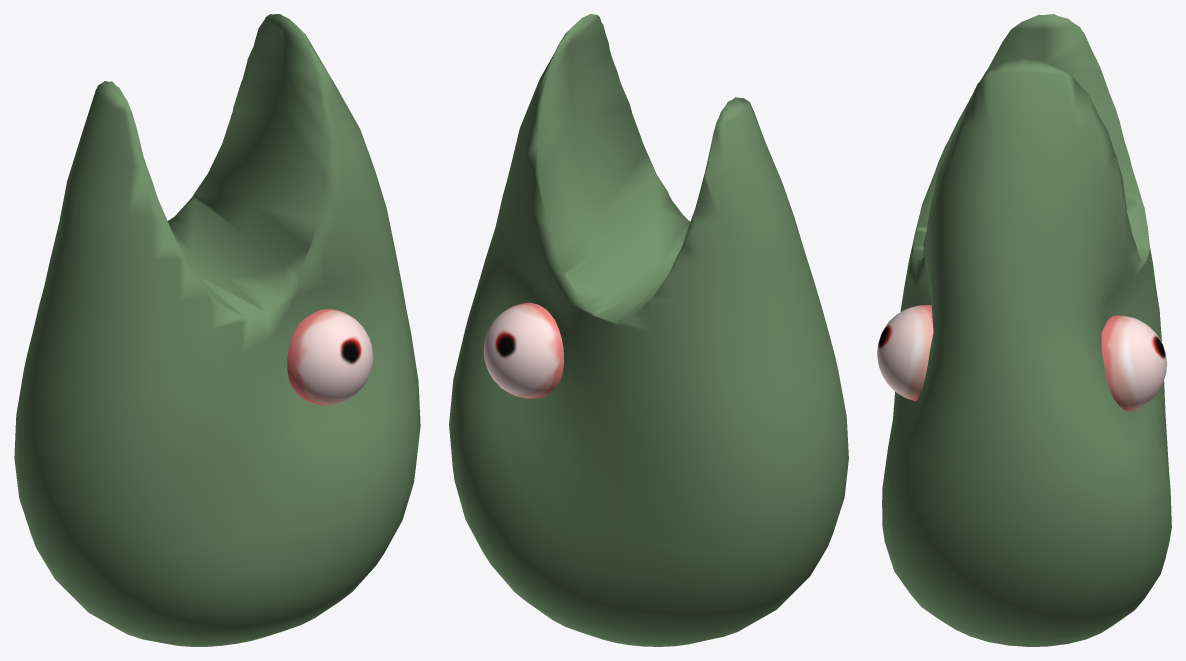
File: playerHeadNoTeeth.fbx
3 views of the same model, side by side, from view 1: azimuth 30°, elevation 25°; view 2: azimuth 150°, elevation 25°; view 3: azimuth 270°, elevation 25° (orthographic).
Parts seen in each view (by area): view 1: PlayerHead, EyeL; view 2: PlayerHead, EyeR; view 3: PlayerHead, EyeR, EyeL.
Boxes of the visible parts, left/top/right/bottom form: PlayerHead: left=14, top=14, right=420, bottom=646; EyeL: left=287, top=309, right=373, bottom=405; PlayerHead: left=449, top=14, right=848, bottom=646; EyeR: left=483, top=302, right=563, bottom=398; PlayerHead: left=882, top=14, right=1171, bottom=646; EyeR: left=1101, top=315, right=1166, bottom=411; EyeL: left=877, top=305, right=933, bottom=400.
Size of the model in its own units: 203 by 317 by 141.
2 materials, 1 textured.
